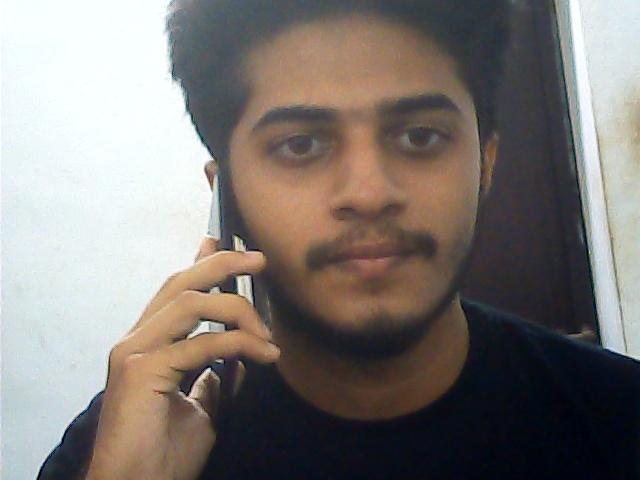PhoneUse: (182, 184, 274, 396)
SafeDriving: (377, 105, 462, 164), (258, 114, 343, 168)
